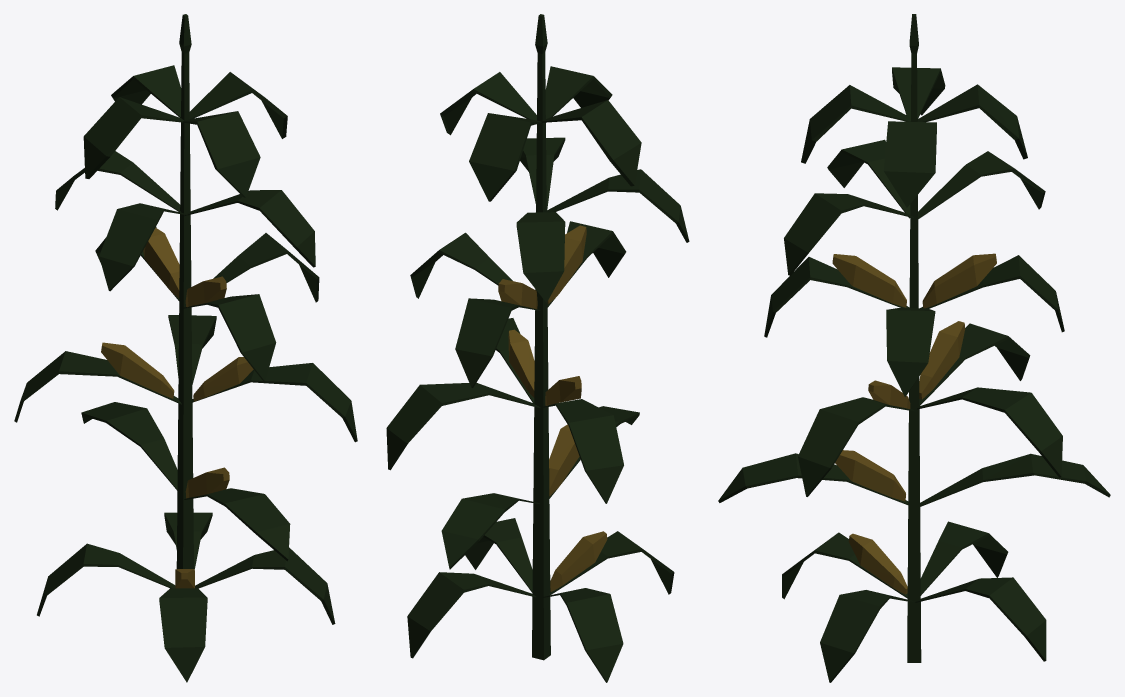
The model's file is Corn_2.obj.
The picture shows the model from 3 angles, left to right: view 1: azimuth 30°, elevation 25°; view 2: azimuth 150°, elevation 25°; view 3: azimuth 270°, elevation 25°; orthographic projection.
Parts seen in each view (by area): view 1: Corn_2; view 2: Corn_2; view 3: Corn_2.
Part boxes in pixels (x1,y1,x2,y2): Corn_2: [14, 14, 357, 682]; Corn_2: [386, 14, 689, 682]; Corn_2: [718, 14, 1110, 682].
Size of the model in its own units: 0.8237 by 1.98 by 1.09.
